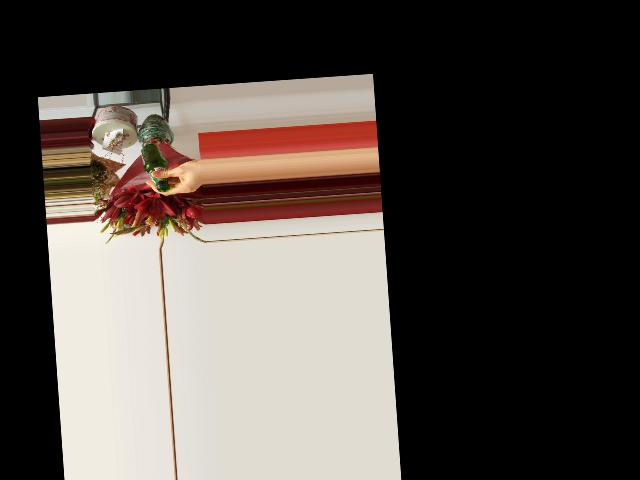beer: (140, 142, 170, 192)
